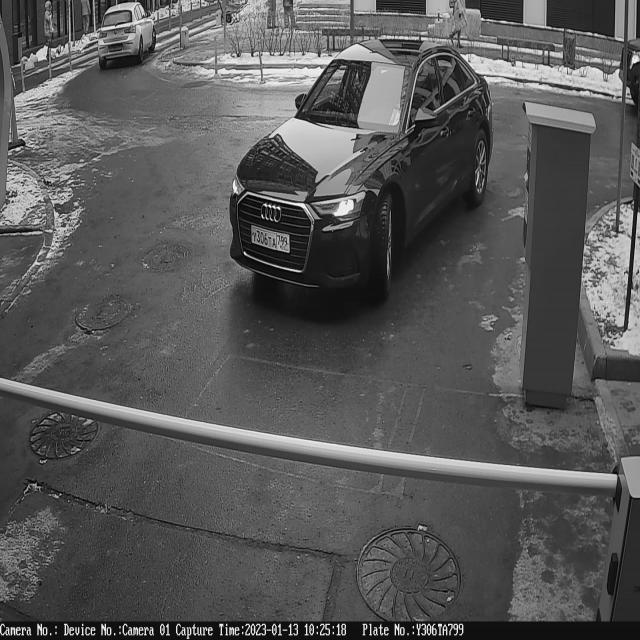car-plate-numbers: (250, 221, 294, 257)
